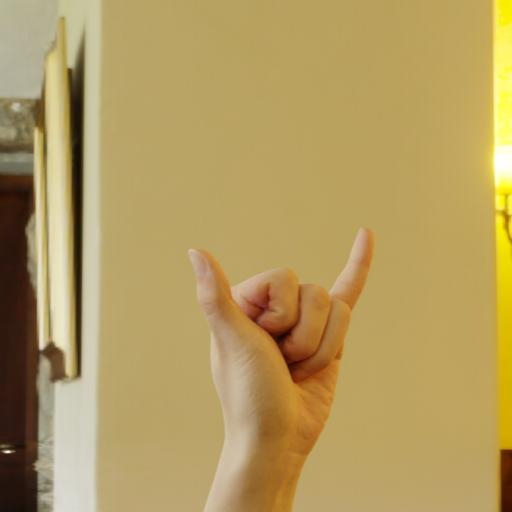Y: (181, 224, 394, 472)
